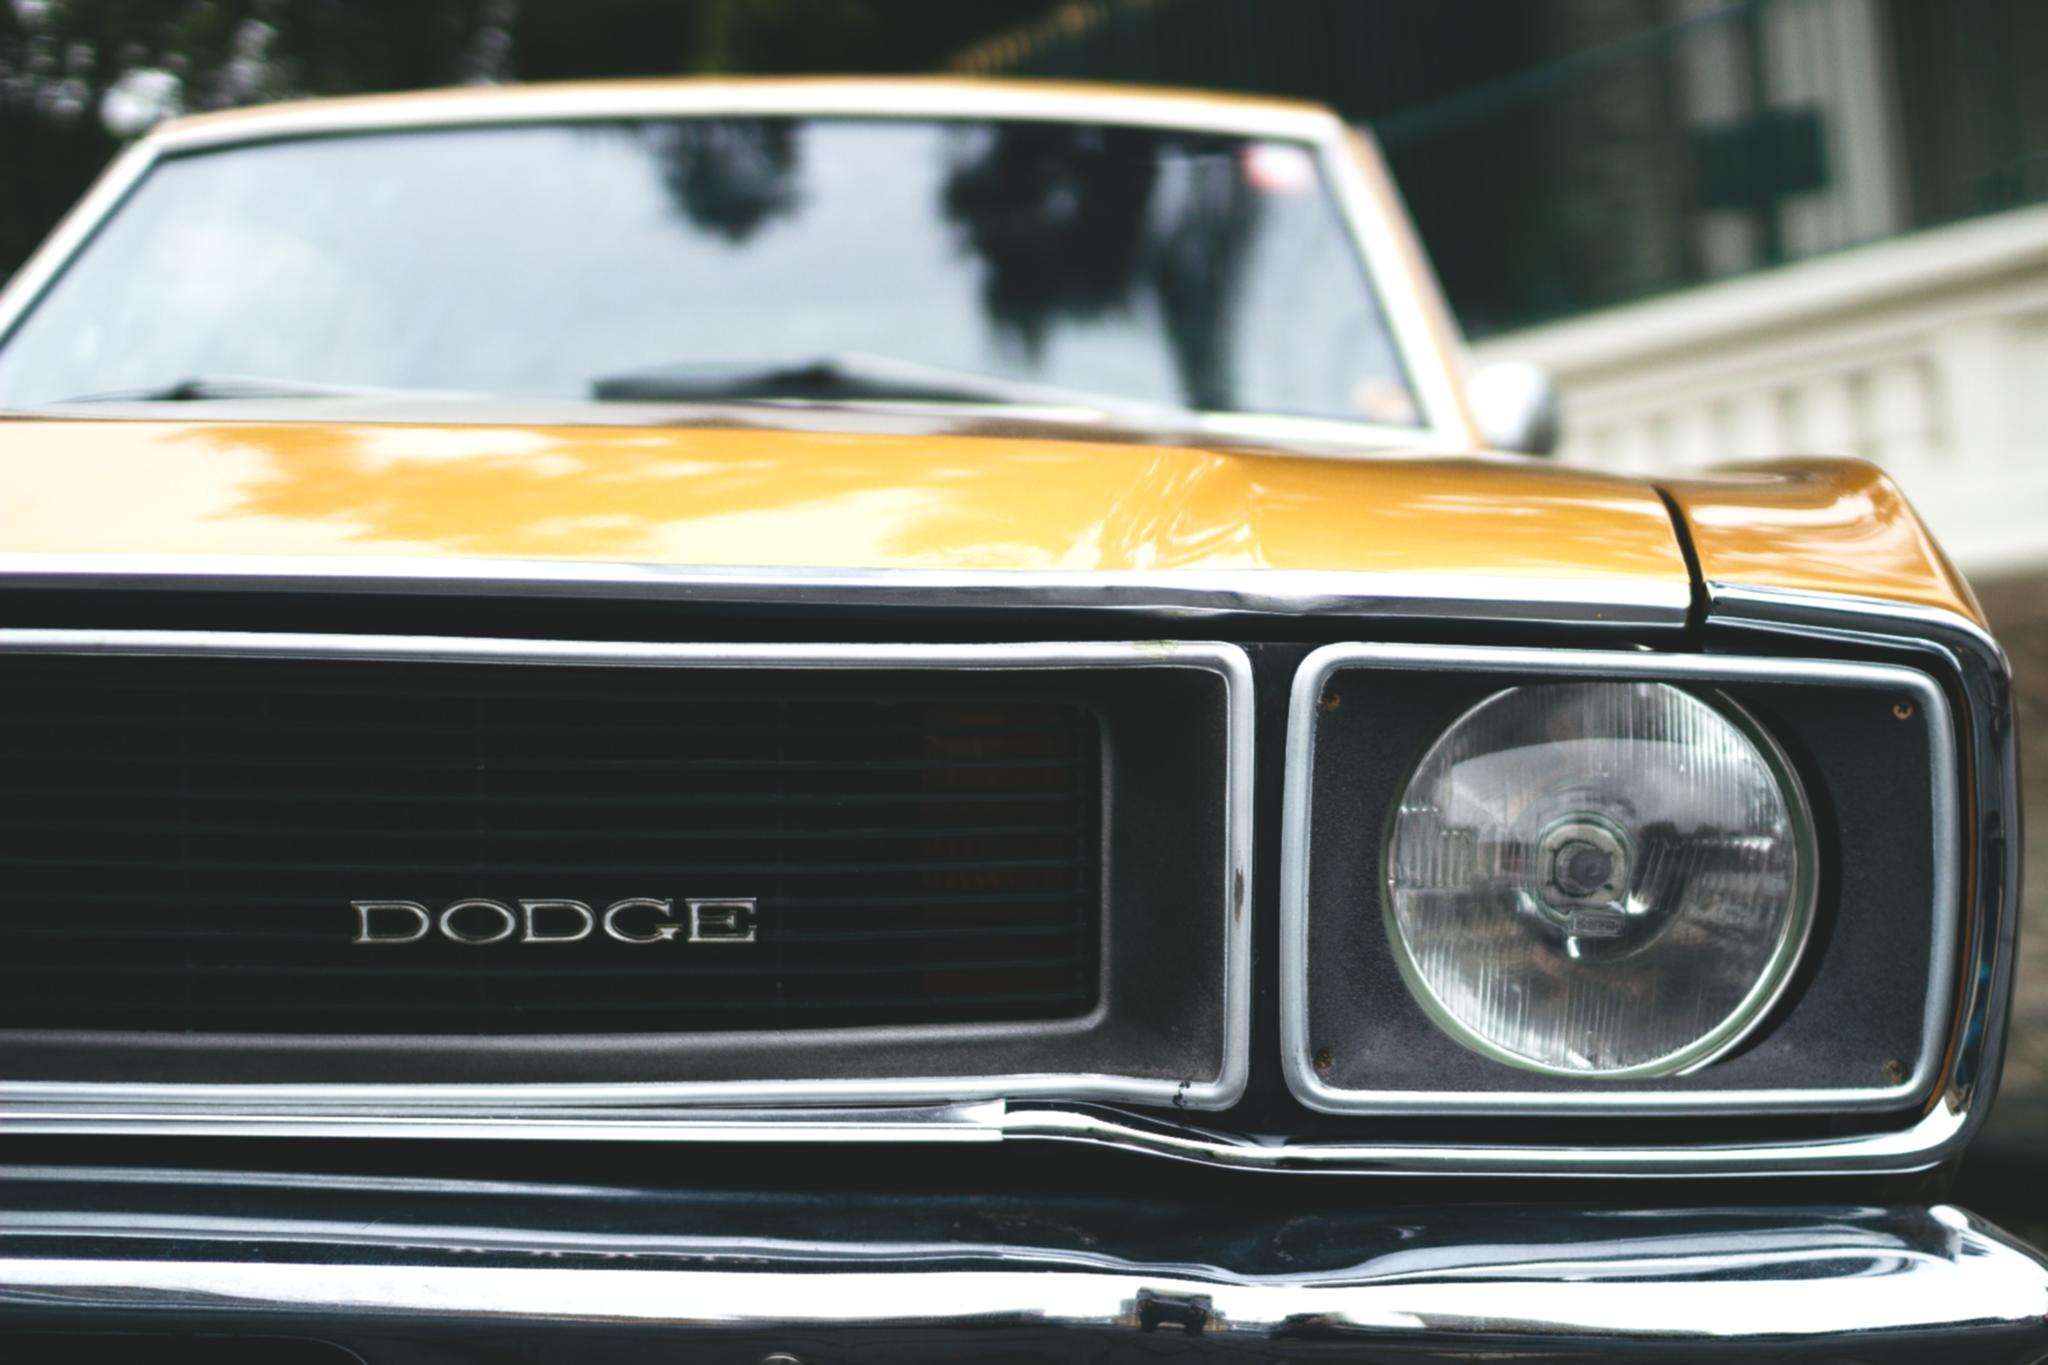dodge: (305, 859, 795, 993)
